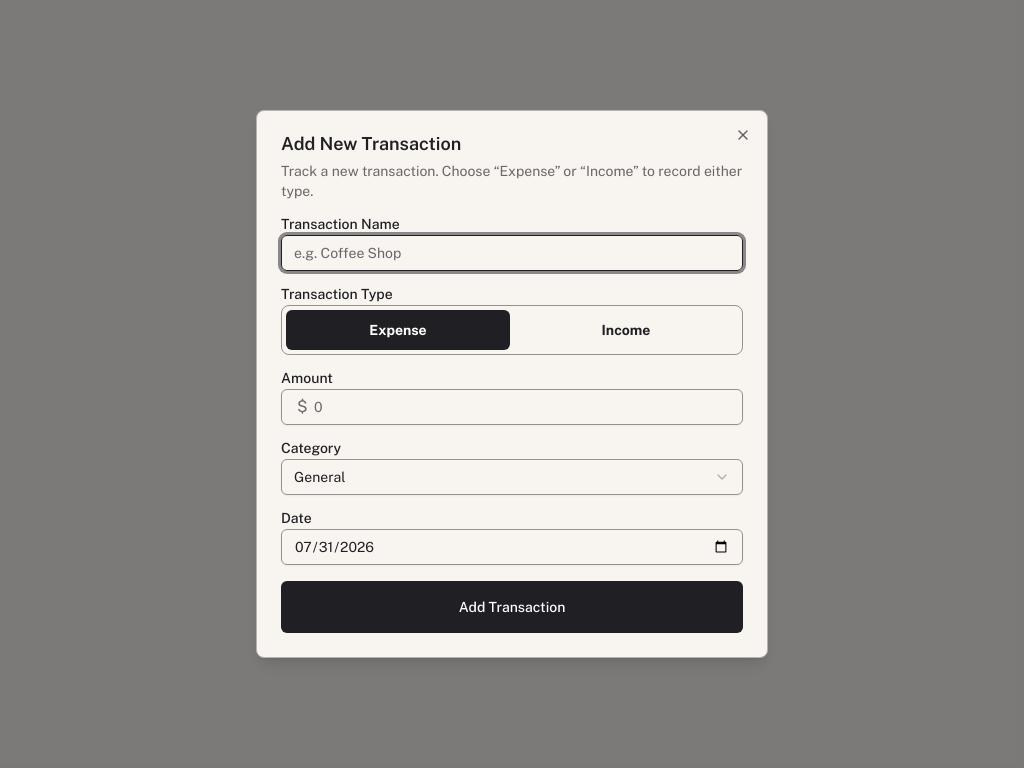
Test case: TransactionFormDialog — add › blocks submit and shows an error when the name is empty
In the number field labelled "Amount": (512, 407) top-left (281, 389), bottom-right (743, 425), type "10"
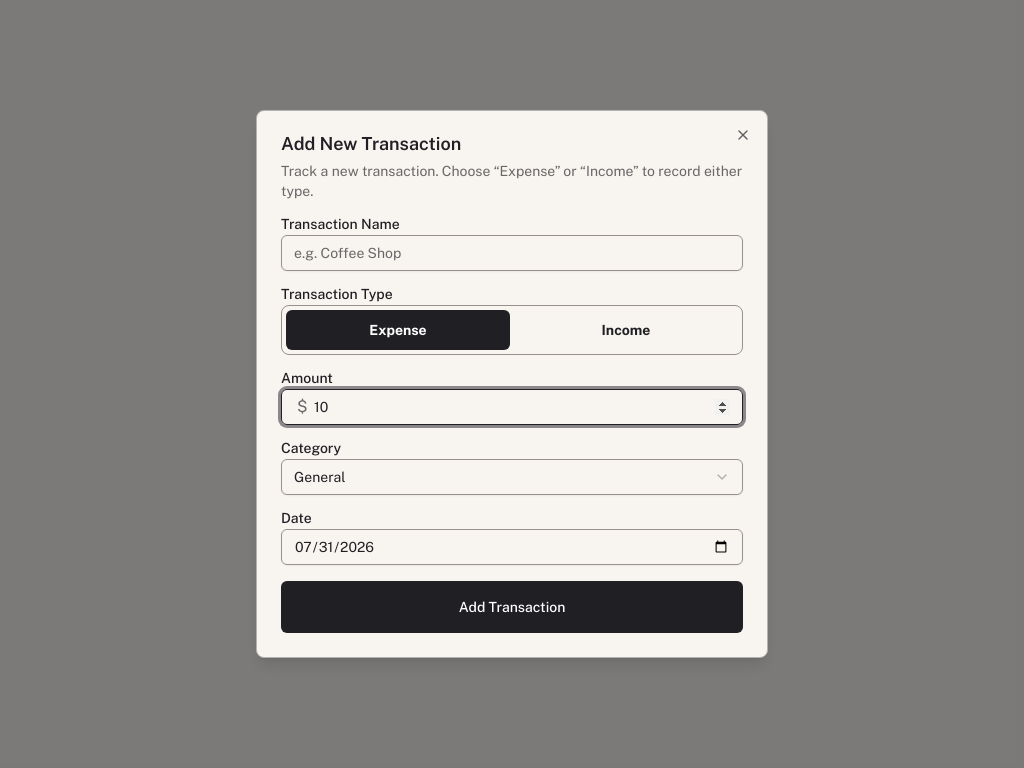
Click the button "Add Transaction": (512, 607) top-left (281, 581), bottom-right (743, 633)
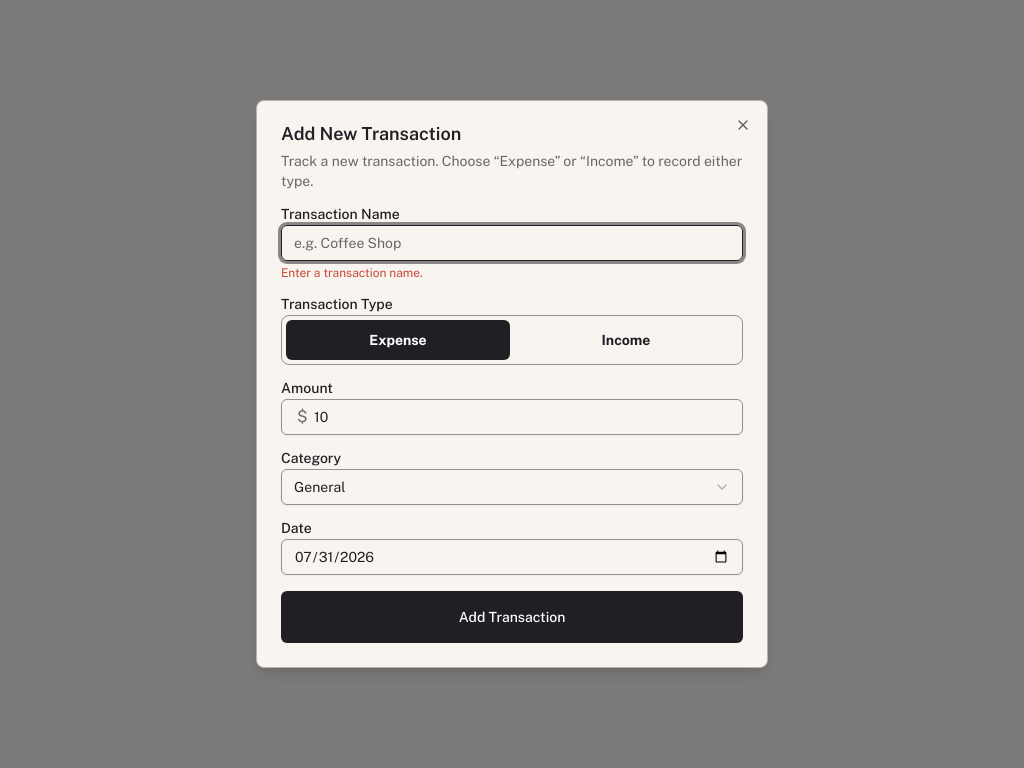
Result: the text "Enter a transaction name." is shown at top-left (281, 266), bottom-right (423, 280)
